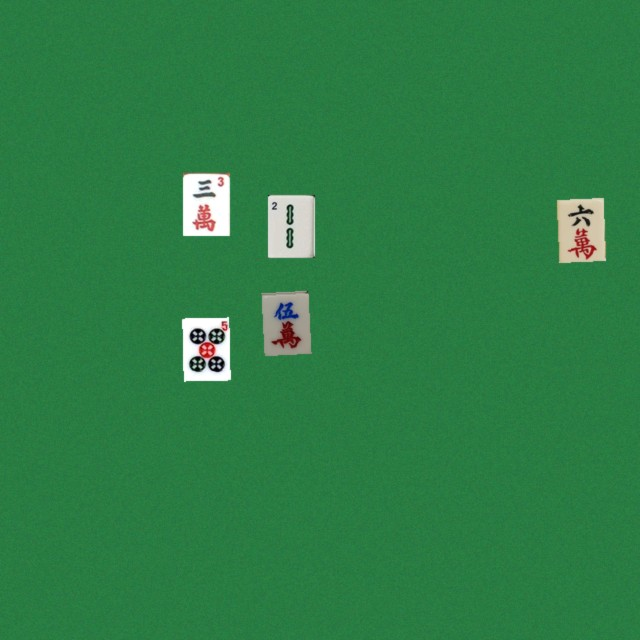tile: (182, 172, 229, 235), (556, 197, 603, 260), (182, 317, 229, 380), (267, 194, 314, 257), (261, 290, 308, 353)
